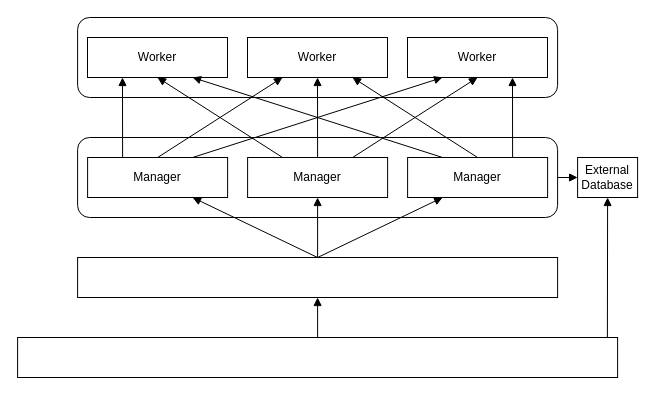
Some shapes in this 655 by 395 pixel diagram are drawn without their labels. The centre of each missing label's shape, as x and y in pixels:
"Load Balancer" goes at [317,277].
"Virtualization / Cloud" goes at [317,357].
